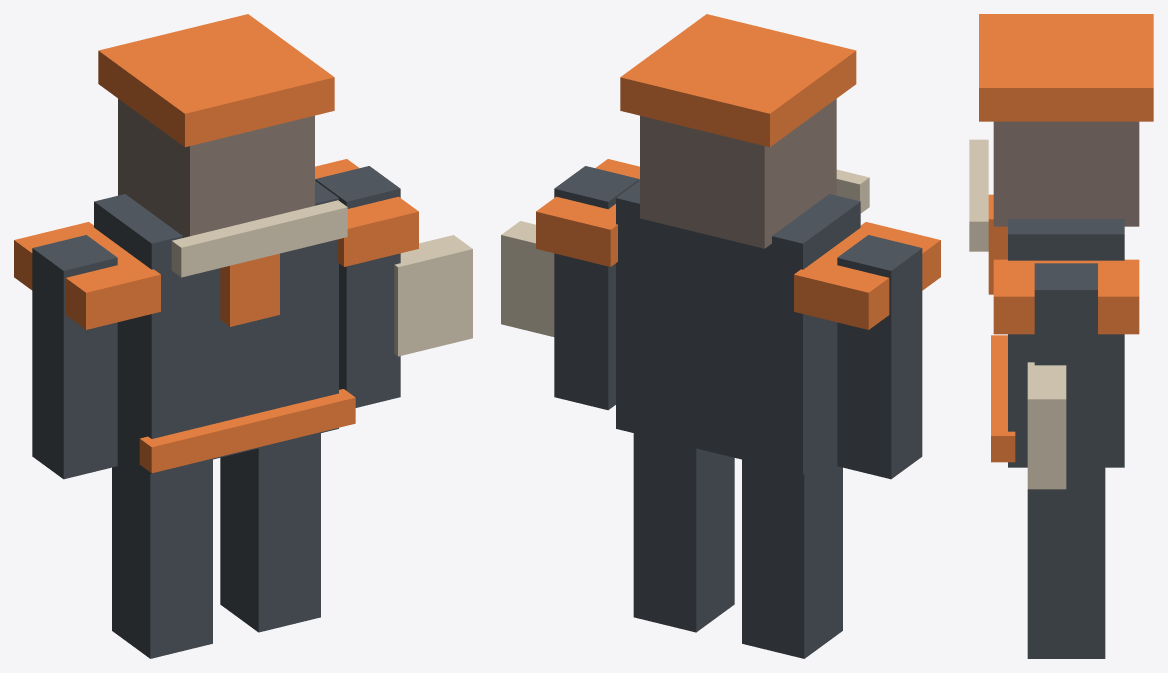
File: 01_keir_chromabell_warden_under_trench.glb
The picture shows the model from 3 angles, left to right: view 1: azimuth 30°, elevation 25°; view 2: azimuth 150°, elevation 25°; view 3: azimuth 270°, elevation 25°; orthographic projection.
Visible parts, largest first — view 1: Keir Chromabell, Warden under Trench; view 2: Keir Chromabell, Warden under Trench; view 3: Keir Chromabell, Warden under Trench.
Part boxes in pixels (x1,y1,x2,y2): Keir Chromabell, Warden under Trench: (14,14,472,658); Keir Chromabell, Warden under Trench: (501,14,940,658); Keir Chromabell, Warden under Trench: (969,14,1153,658).
Size of the model in its own units: 1.06 by 1.4 by 0.4137.
